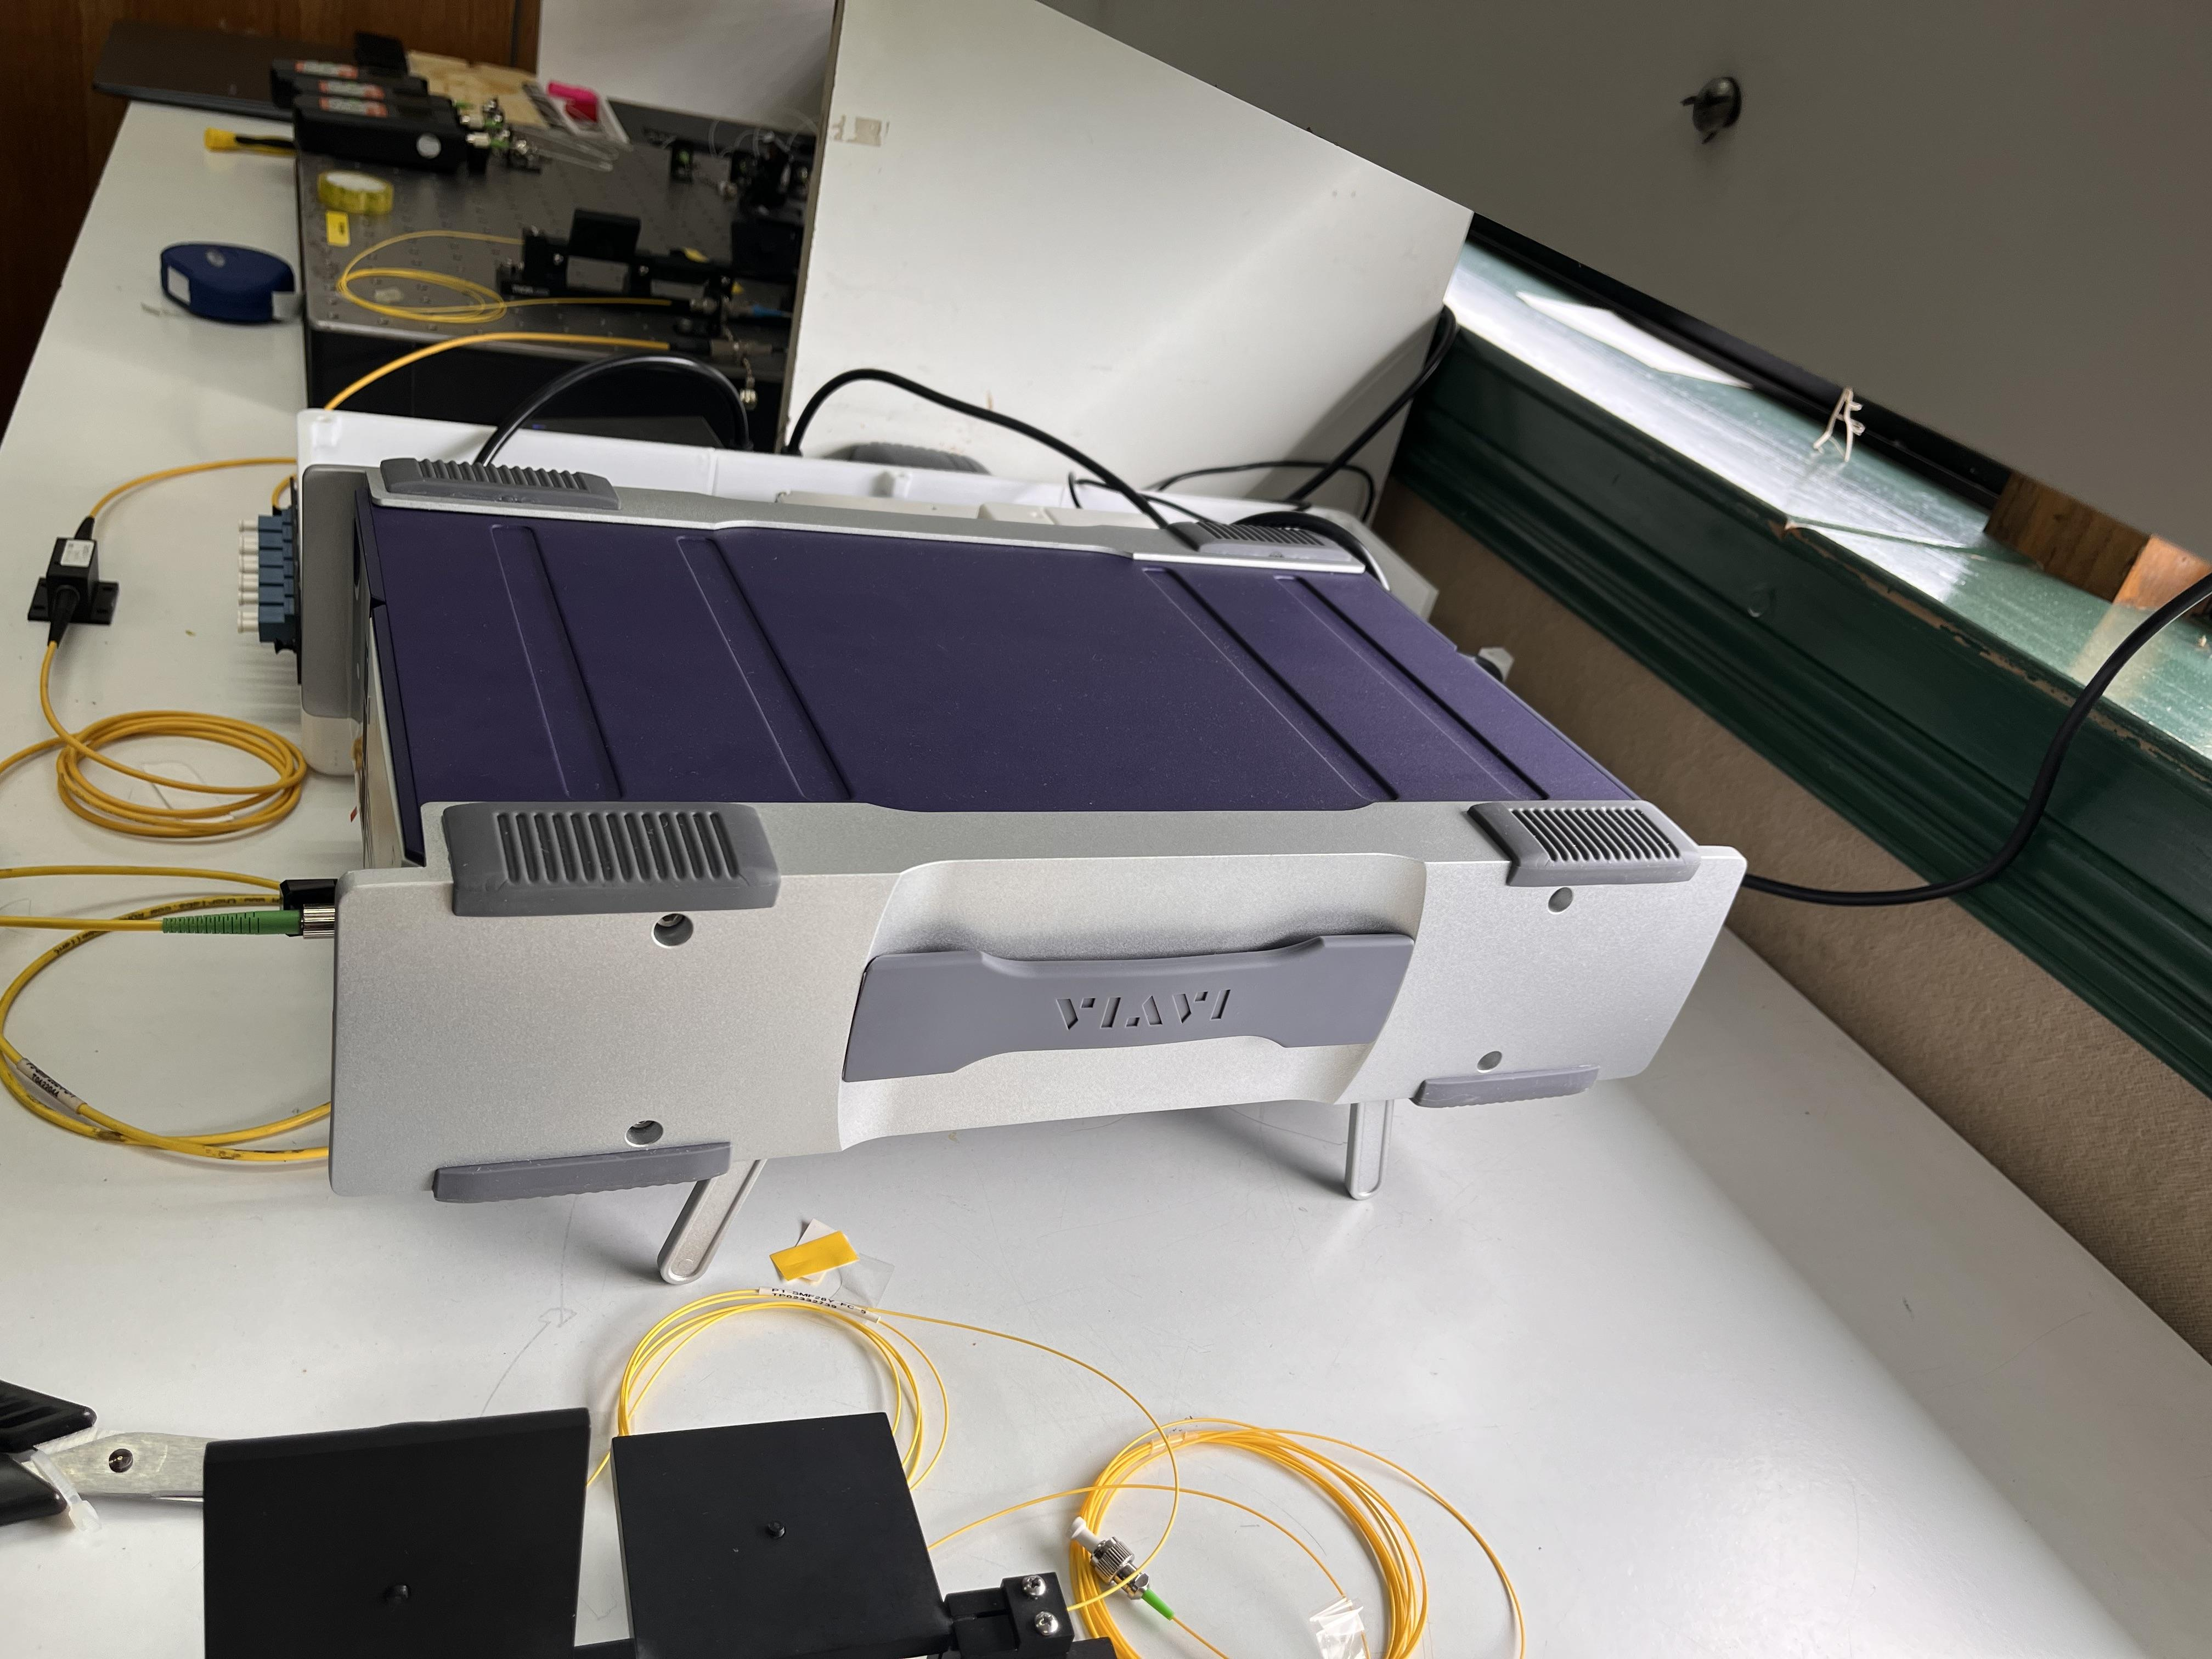laser: (298, 455, 1752, 1286)
